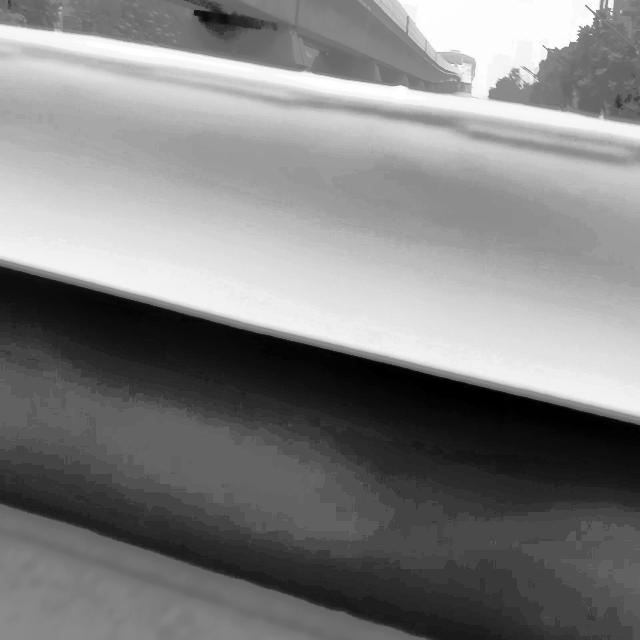car: (1, 23, 640, 639)
